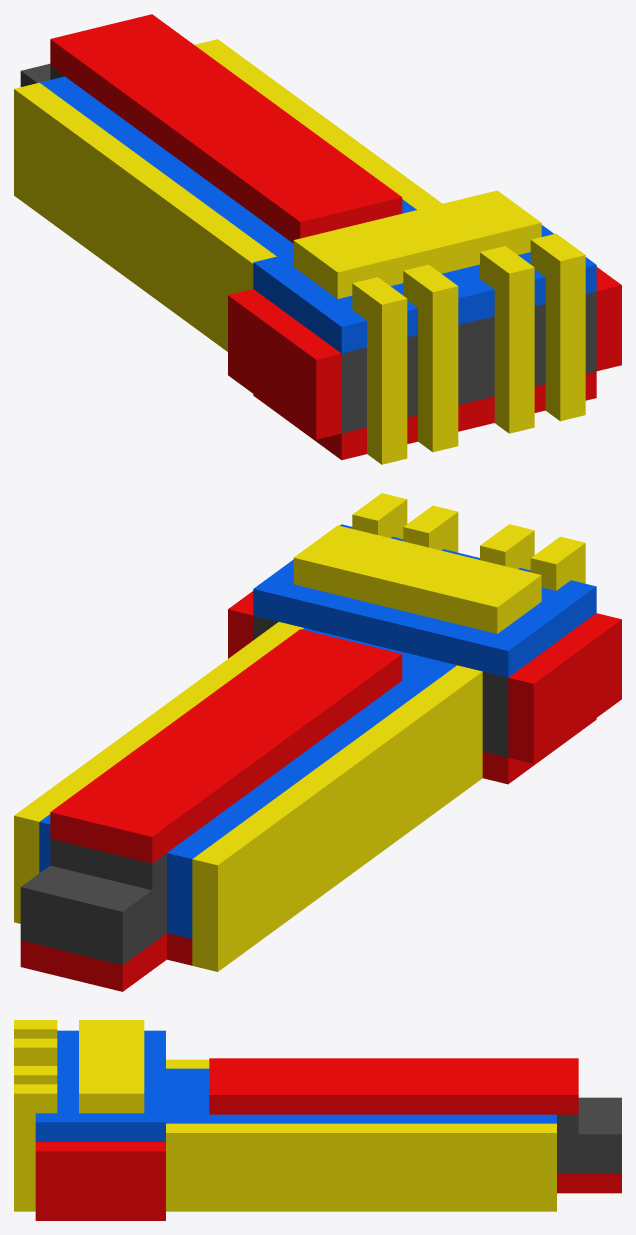
Rendered from fist.obj.
3 renders of one model, top to bottom at view 1: azimuth 30°, elevation 25°; view 2: azimuth 150°, elevation 25°; view 3: azimuth 270°, elevation 25°, orthographic. The views are drawn at different scales.
Bounding box in the file's own units: 12 × 6 × 28.
1 material, 1 textured.
